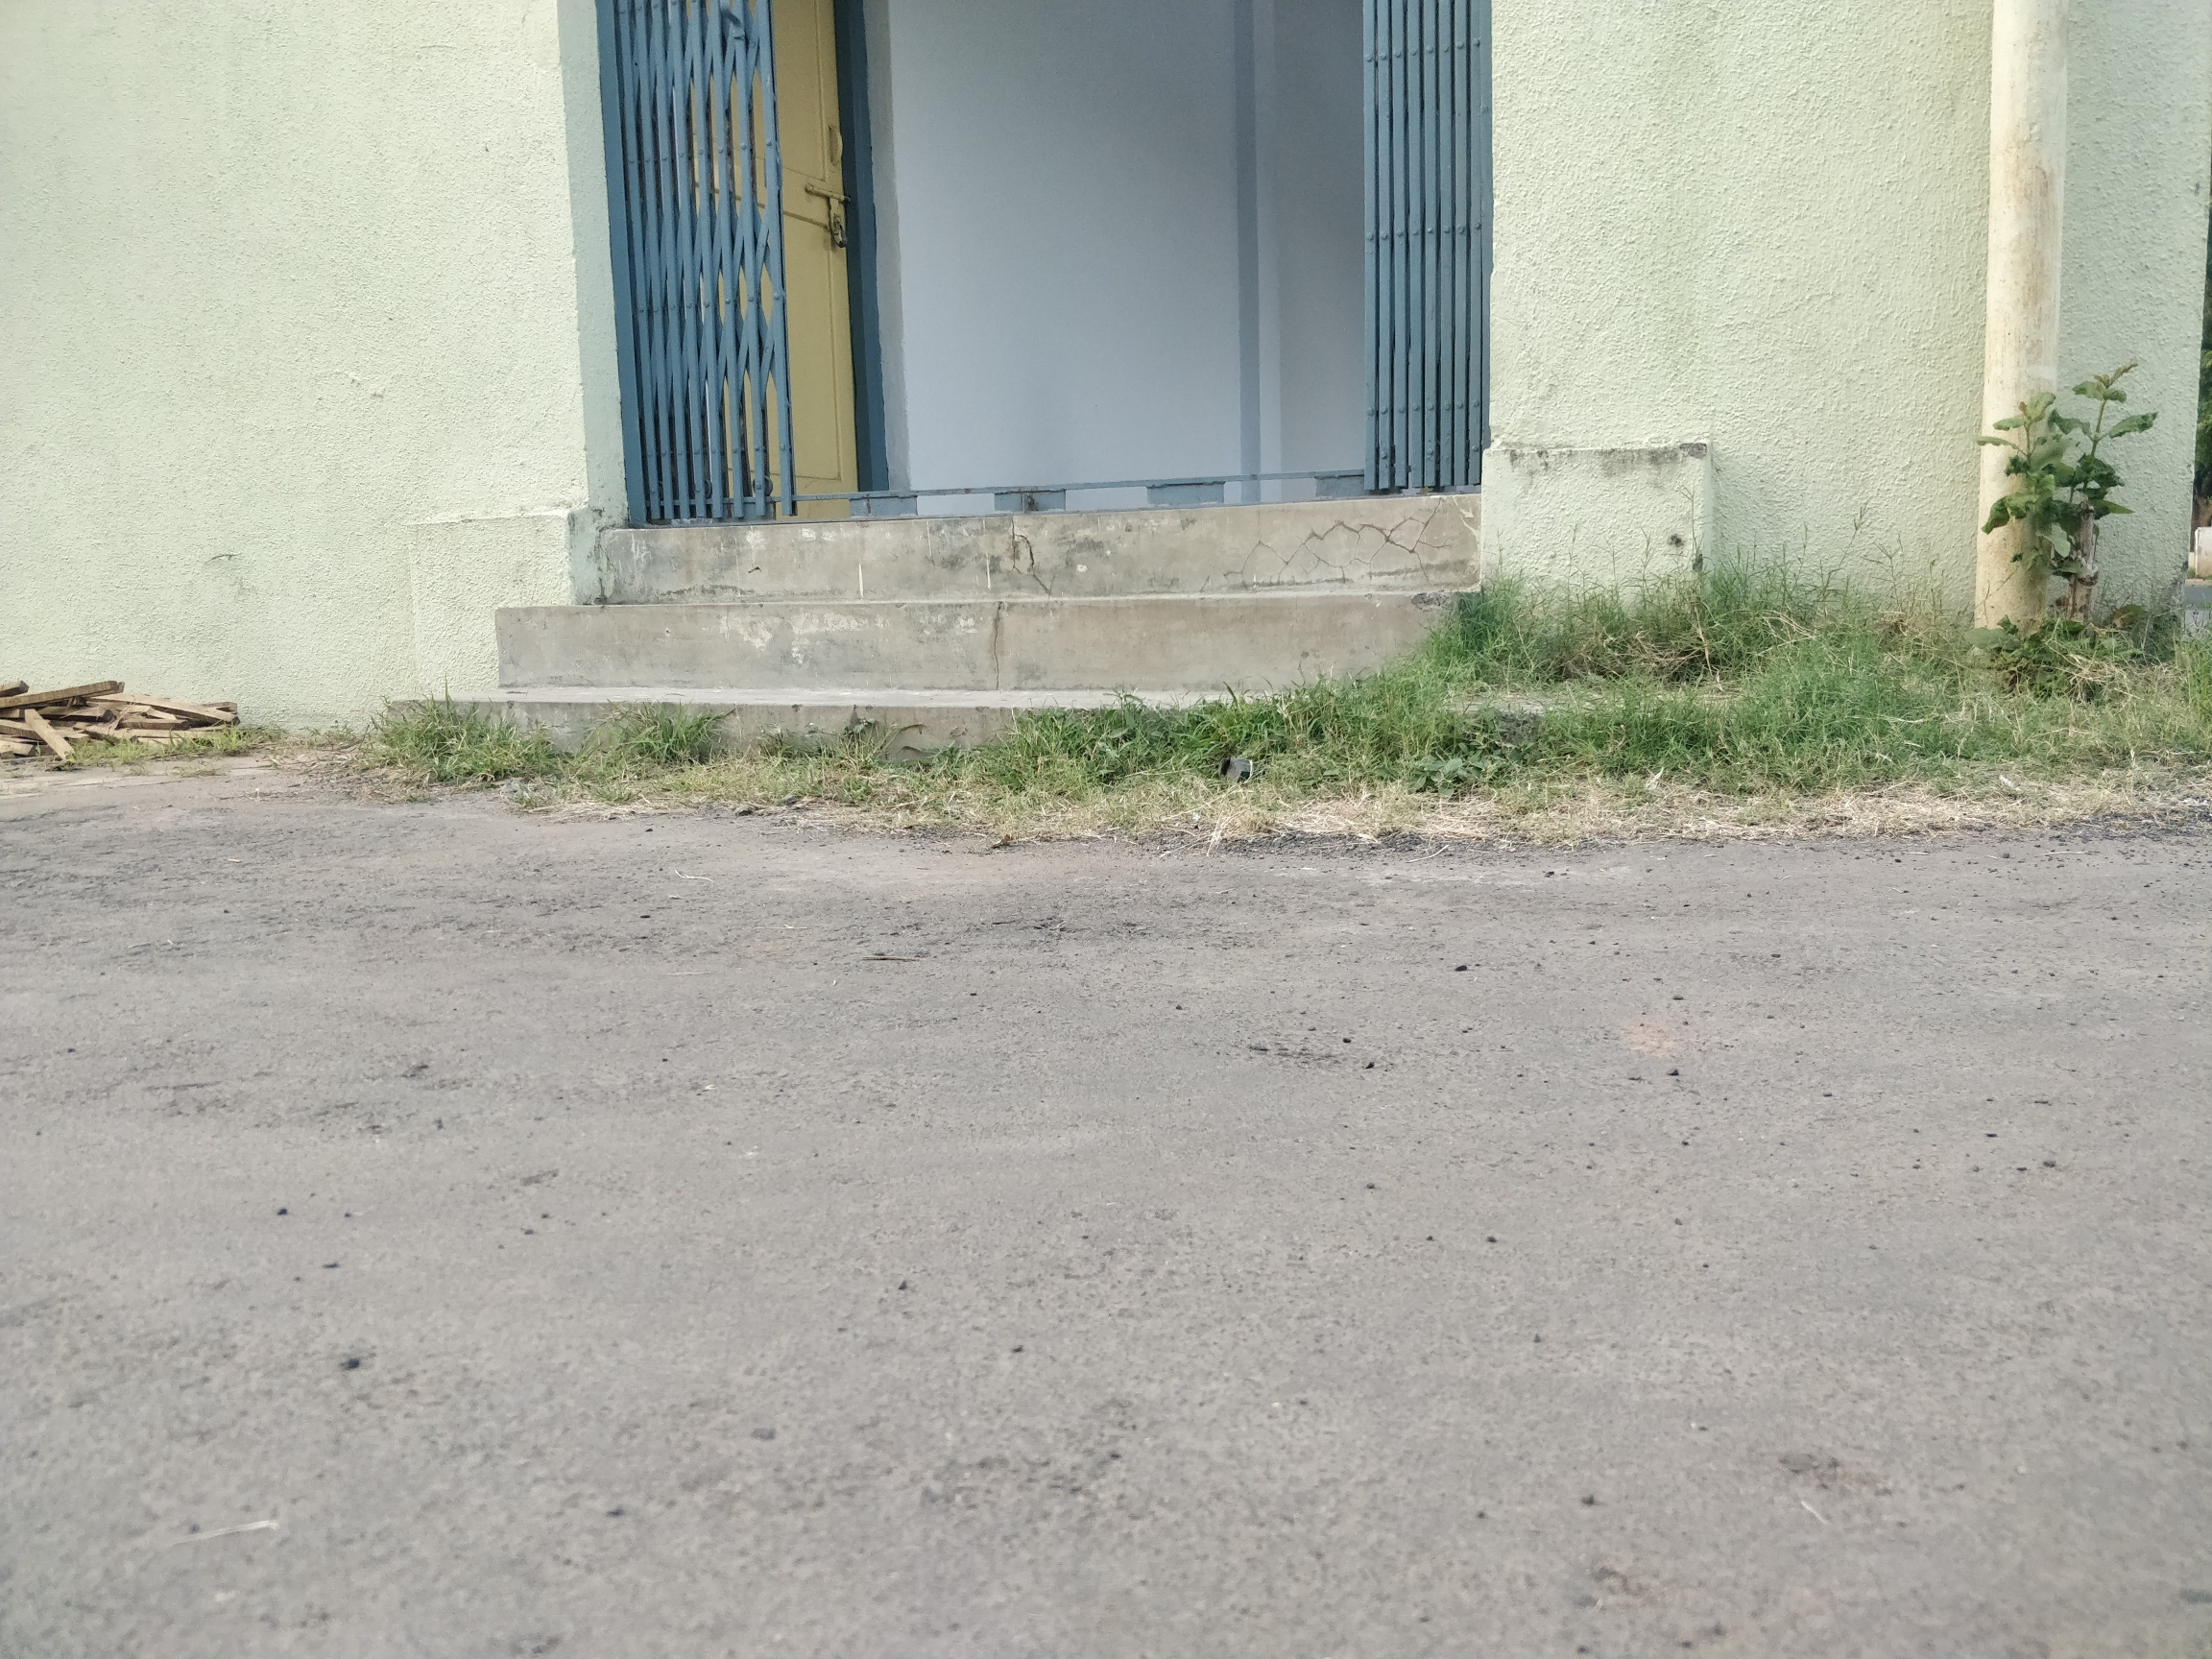stairs_up: (381, 472, 1477, 817)
